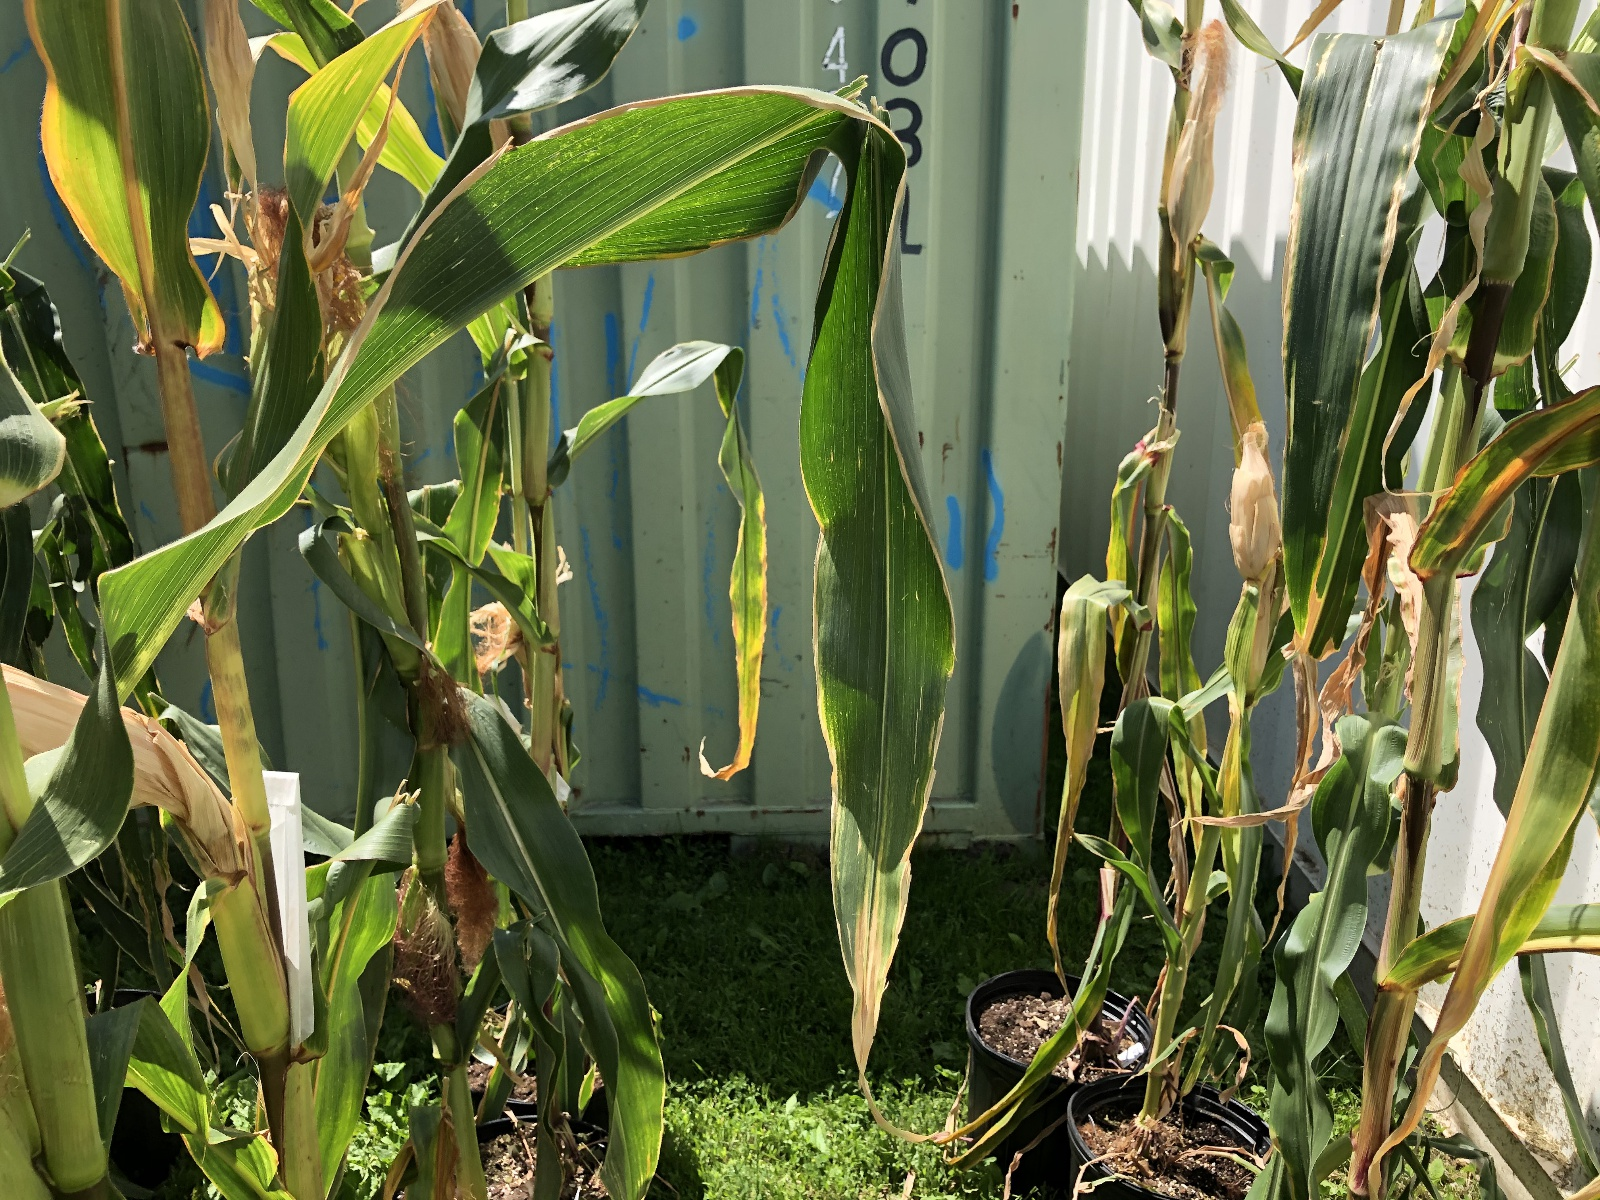ear: (1162, 19, 1236, 246), (1220, 412, 1285, 587)
